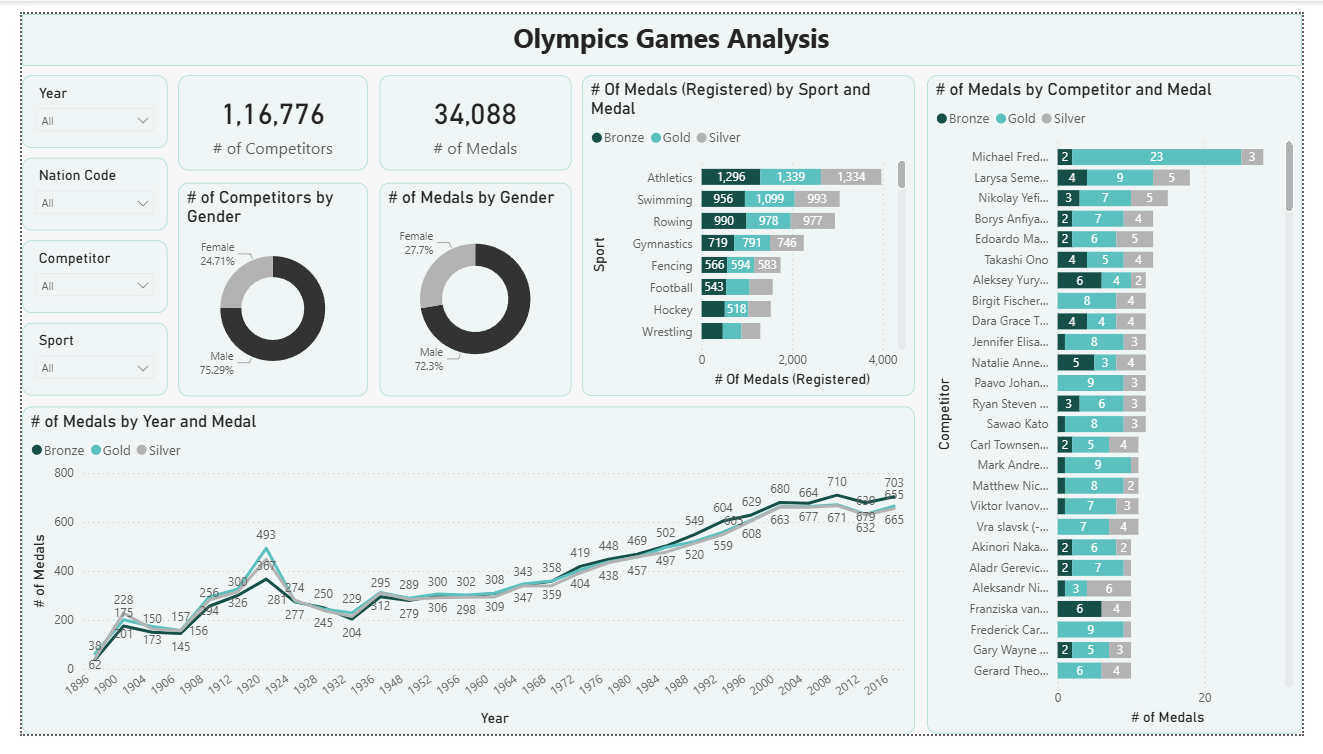

Layout of this report page (visuals, bound fields, positions):
{"tool":"powerbi","page":{"name":"Olympic Games Analysis","canvas":[1280,720],"ordinal":0},"visuals":[{"type":"textbox","box":[0,0,1280,51.9],"z":0},{"type":"slicer","fields":{"Values":["Olympic Data.Year"]},"box":[0,61.3,145.9,72.9],"z":1000},{"type":"slicer","fields":{"Values":["Olympic Data.Nation Code"]},"box":[0,144,145.9,72.9],"z":2000},{"type":"slicer","fields":{"Values":["Olympic Data.Competitor Name"]},"box":[0,226.6,145.9,72.9],"z":3000},{"type":"slicer","fields":{"Values":["Olympic Data.Sport"]},"box":[0,309.3,145.9,72.9],"z":4000},{"type":"card","fields":{"Values":["Olympic Data.Number of Competitors"]},"box":[155.6,61.5,189.4,95.3],"z":5000},{"type":"card","fields":{"Values":["Calculations.# Of Medals (Registered)"]},"box":[357.1,61.5,191.8,95.3],"z":6000},{"type":"donutChart","fields":{"Y":["Olympic Data.Number of Competitors"],"Category":["Olympic Data.Sex"]},"box":[155.6,168.9,189.4,213.5],"z":7000},{"type":"donutChart","fields":{"Y":["Calculations.# Of Medals (Registered)"],"Category":["Olympic Data.Sex"]},"box":[357.1,168.9,191.8,213.5],"z":8000},{"type":"lineChart","fields":{"Category":["Olympic Data.Year"],"Series":["Olympic Data.Medal"],"Y":["Calculations.# Of Medals (Registered)"]},"box":[0,392.1,892.8,328.2],"z":9000},{"type":"barChart","fields":{"Category":["Olympic Data.Sport"],"Series":["Olympic Data.Medal"],"Y":["Calculations.# Of Medals (Registered)"]},"box":[559.8,61.5,333,320.9],"z":10000},{"type":"barChart","fields":{"Category":["Olympic Data.Competitor Name"],"Series":["Olympic Data.Medal"],"Y":["Calculations.# Of Medals (Registered)"]},"box":[904.8,61.5,375.2,658.7],"z":11000}]}

Visuals, with their boxes in screenshot pixels (x1, y1, x2, y2), scaled from the page's 1280x720 canvas onto the 1323x754 screenshot:
textbox: region(0, 0, 1322, 54)
slicer - Olympic Data.Year: region(0, 64, 151, 141)
slicer - Olympic Data.Nation Code: region(0, 151, 151, 227)
slicer - Olympic Data.Competitor Name: region(0, 237, 151, 314)
slicer - Olympic Data.Sport: region(0, 324, 151, 400)
card - Olympic Data.Number of Competitors: region(161, 64, 357, 164)
card - Calculations.# Of Medals (Registered): region(369, 64, 567, 164)
donutChart - Olympic Data.Number of Competitors x Olympic Data.Sex: region(161, 177, 357, 400)
donutChart - Calculations.# Of Medals (Registered) x Olympic Data.Sex: region(369, 177, 567, 400)
lineChart - Olympic Data.Year x Olympic Data.Medal: region(0, 411, 923, 753)
barChart - Olympic Data.Sport x Olympic Data.Medal: region(579, 64, 923, 400)
barChart - Olympic Data.Competitor Name x Olympic Data.Medal: region(935, 64, 1322, 753)
